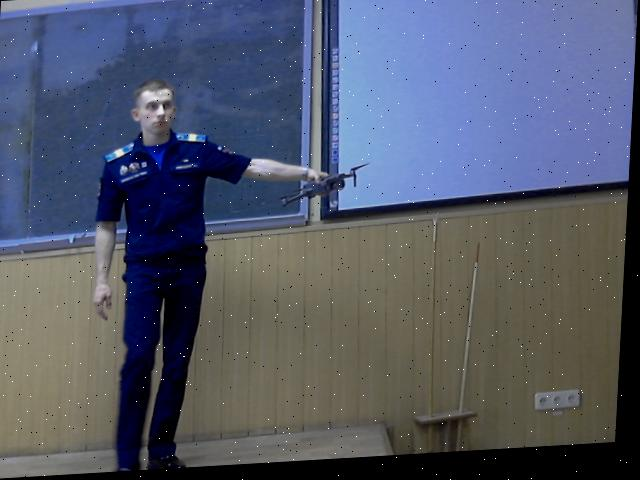drone: (272, 165, 370, 210)
